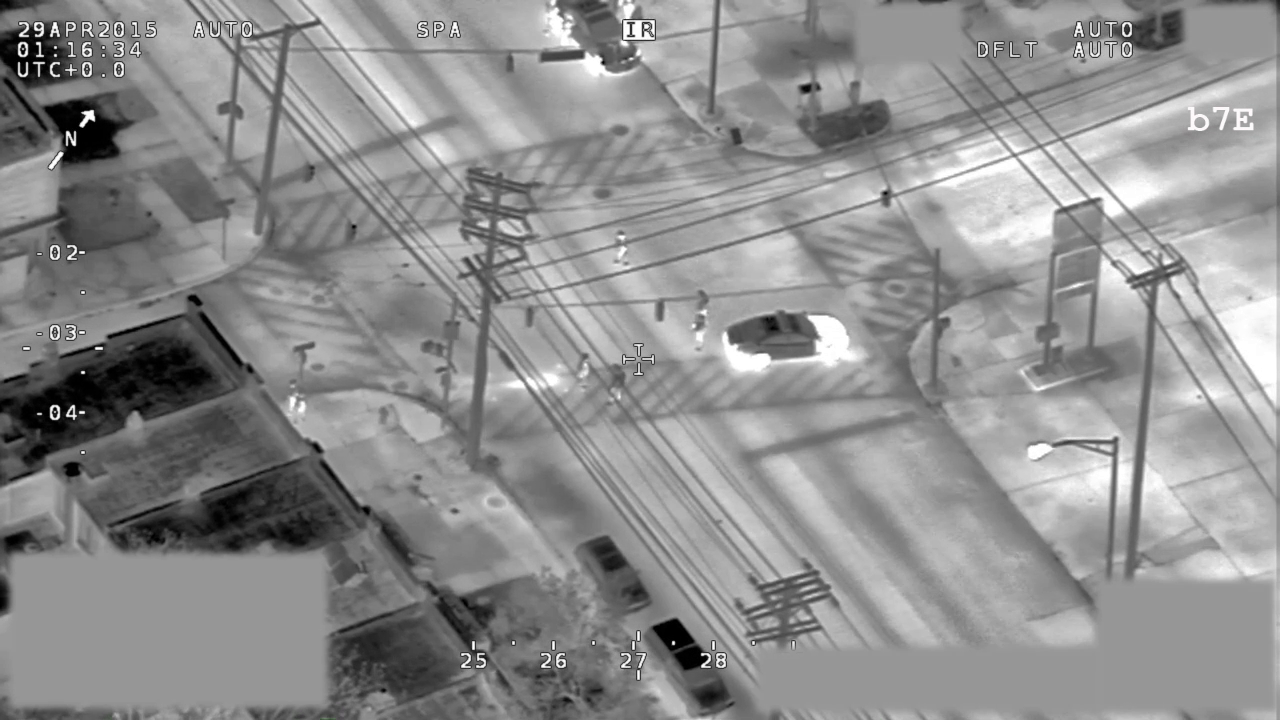vehicle: (642, 613, 740, 720), (719, 307, 854, 375), (542, 1, 647, 81), (569, 530, 652, 619)
